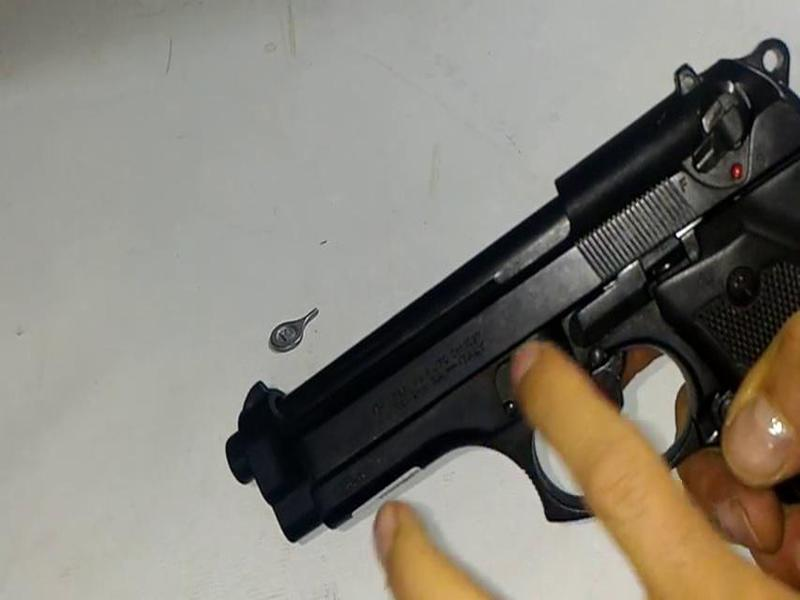Pistola: (213, 19, 800, 569)
